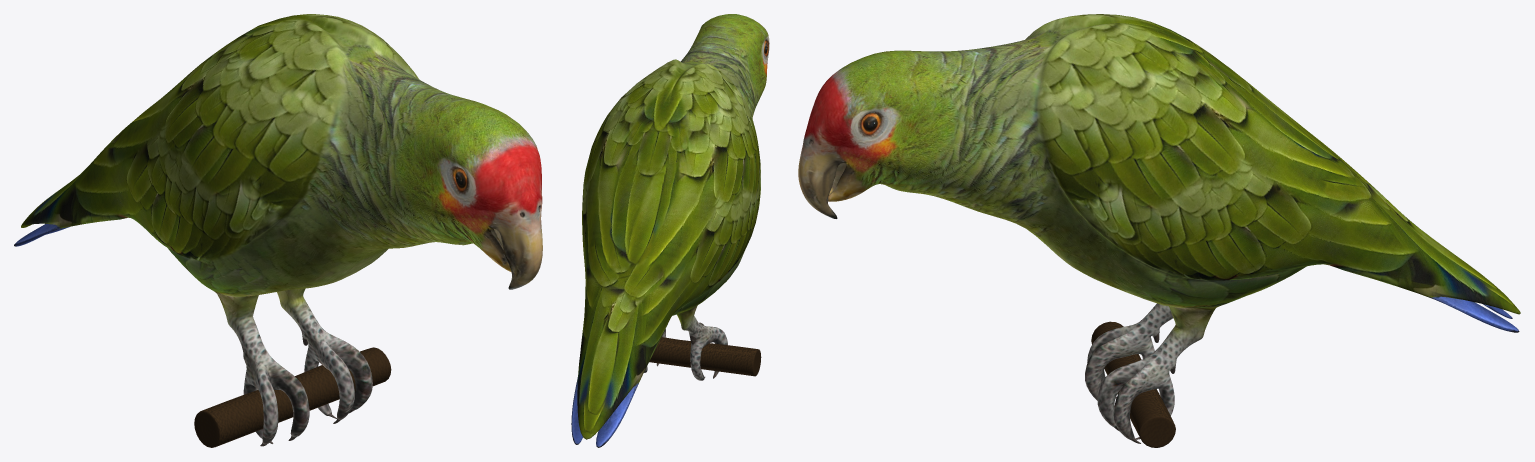
The model's file is LoraCopeteRojo.gltf.
The picture shows the model from 3 angles, left to right: view 1: azimuth 30°, elevation 25°; view 2: azimuth 150°, elevation 25°; view 3: azimuth 270°, elevation 25°; orthographic projection. The views are drawn at different scales.
Visible parts, largest first — view 1: LoraCopeteRojo; view 2: LoraCopeteRojo; view 3: LoraCopeteRojo.
Part boxes in pixels (bbox=[...]): LoraCopeteRojo: bbox=[14, 14, 542, 447]; LoraCopeteRojo: bbox=[571, 14, 769, 447]; LoraCopeteRojo: bbox=[798, 14, 1520, 447].
Bounding box in the file's own units: 1.44 × 2.68 × 4.34.
Materials: 2 (2 with a texture image).
